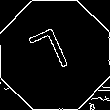L_SE: (31, 26, 79, 84)
